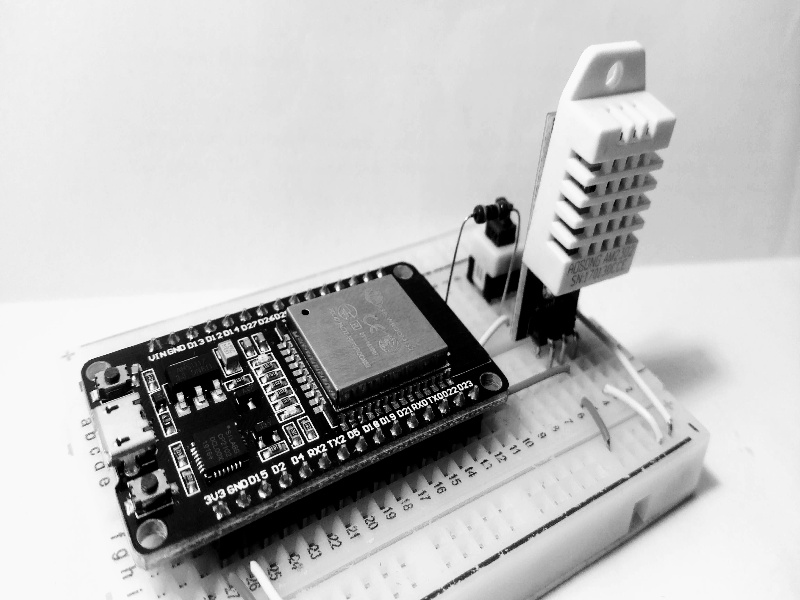esp32: (72, 247, 533, 564)
